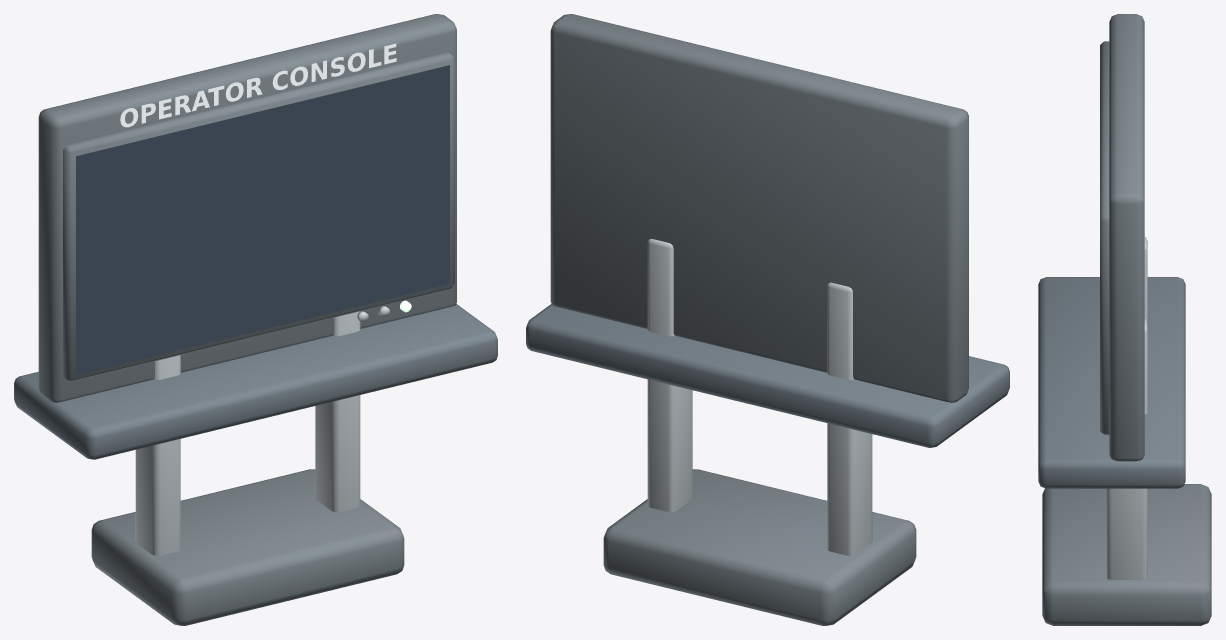
File: operator_console_ultra.glb
3 renders of one model, left to right at view 1: azimuth 30°, elevation 25°; view 2: azimuth 150°, elevation 25°; view 3: azimuth 270°, elevation 25°, orthographic. The views are drawn at different scales.
Visible parts, largest first — view 1: LiveViewSurface_glass, Desk_graphite, Base_frame, DisplayHousing_frame, LiveViewSurfaceFrame_frame, Support_steel, TypeLabel_white; view 2: DisplayHousing_frame, Base_frame, Desk_graphite, Support_steel; view 3: Desk_graphite, Base_frame, DisplayHousing_frame, Support_steel, LiveViewSurfaceFrame_frame.
Boxes of the visible parts, x1=… form: LiveViewSurface_glass: x1=76, y1=65, x2=449, y2=375; Desk_graphite: x1=14, y1=304, x2=497, y2=459; Base_frame: x1=91, y1=469, x2=404, y2=625; DisplayHousing_frame: x1=38, y1=14, x2=456, y2=402; LiveViewSurfaceFrame_frame: x1=63, y1=52, x2=454, y2=381; Support_steel: x1=135, y1=311, x2=360, y2=555; TypeLabel_white: x1=120, y1=43, x2=396, y2=127; DisplayHousing_frame: x1=550, y1=14, x2=968, y2=402; Base_frame: x1=603, y1=469, x2=916, y2=625; Desk_graphite: x1=526, y1=304, x2=1009, y2=447; Support_steel: x1=647, y1=239, x2=872, y2=555; Desk_graphite: x1=1038, y1=277, x2=1185, y2=488; Base_frame: x1=1042, y1=484, x2=1211, y2=625; DisplayHousing_frame: x1=1109, y1=14, x2=1144, y2=461; Support_steel: x1=1106, y1=237, x2=1147, y2=579; LiveViewSurfaceFrame_frame: x1=1100, y1=41, x2=1109, y2=435.
Bounding box in the file's own units: 1.63 × 1.91 × 0.635.
